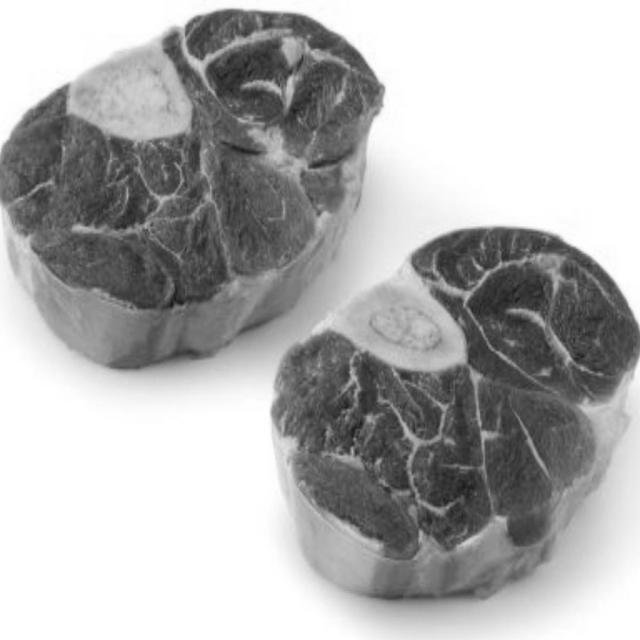chan gio: (246, 241, 639, 599), (1, 13, 381, 360)
